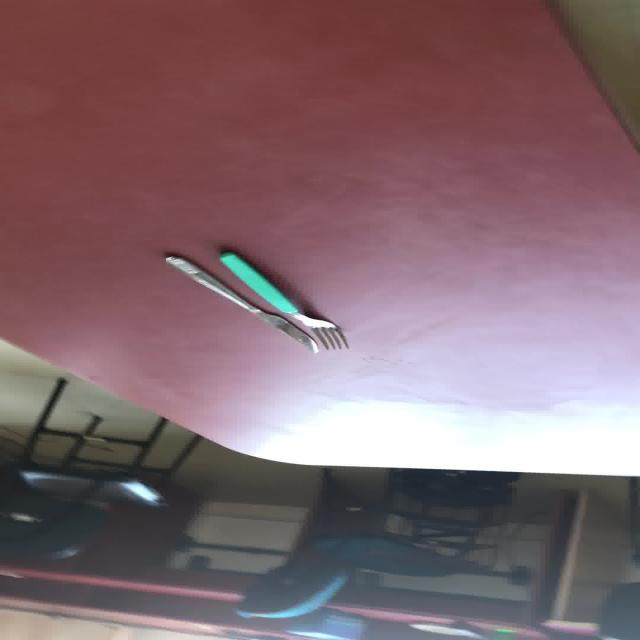fork: (216, 249, 348, 351)
knife fork: (162, 248, 348, 354), (163, 253, 318, 353)
